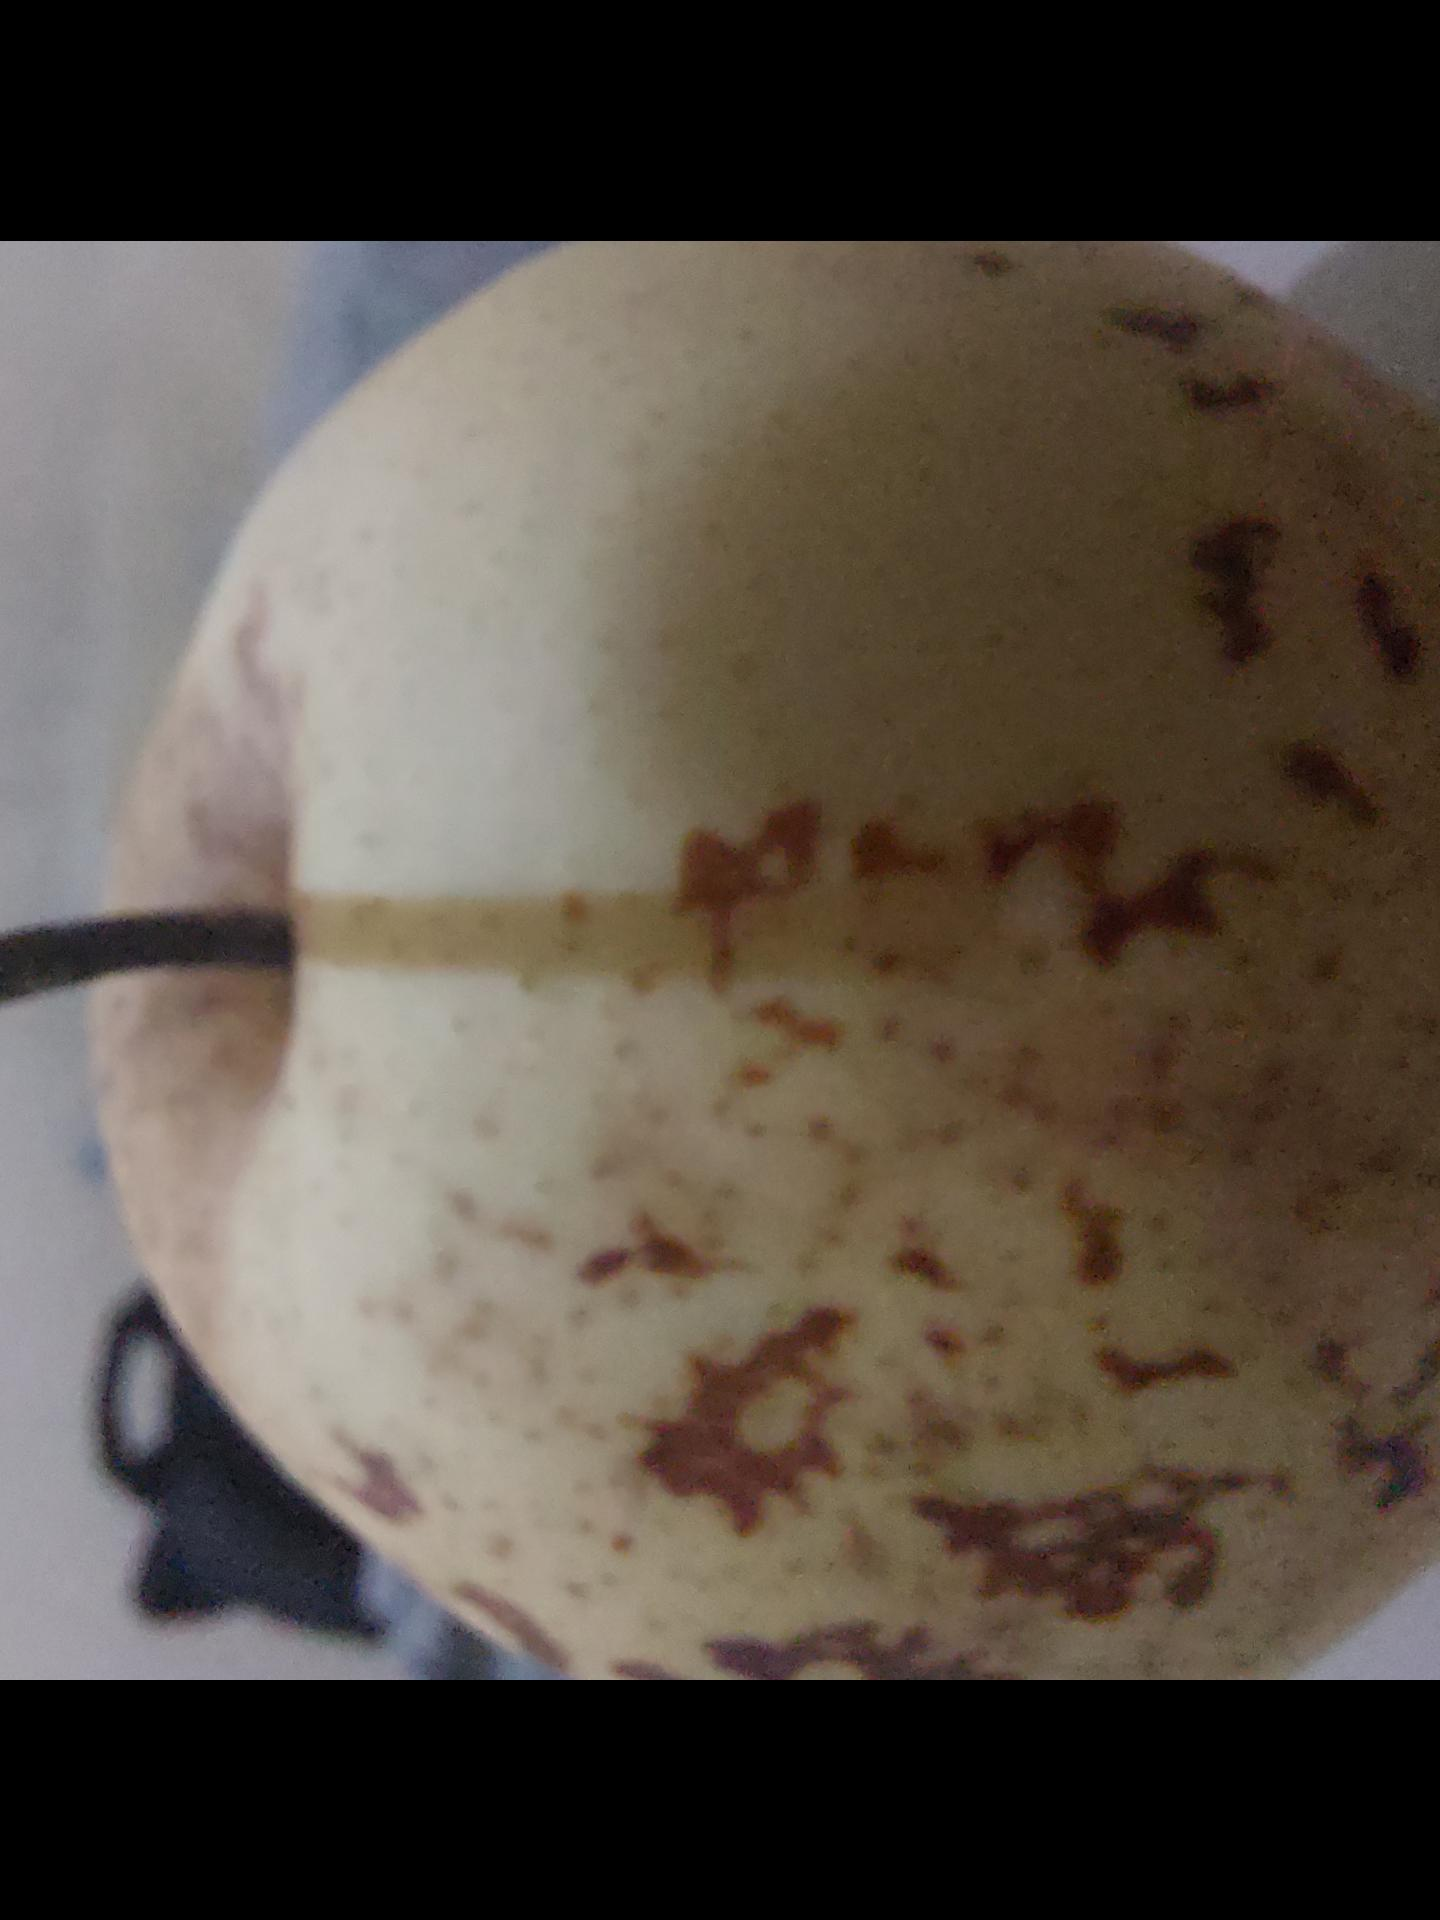Bad Pear: (61, 240, 1440, 1680)
